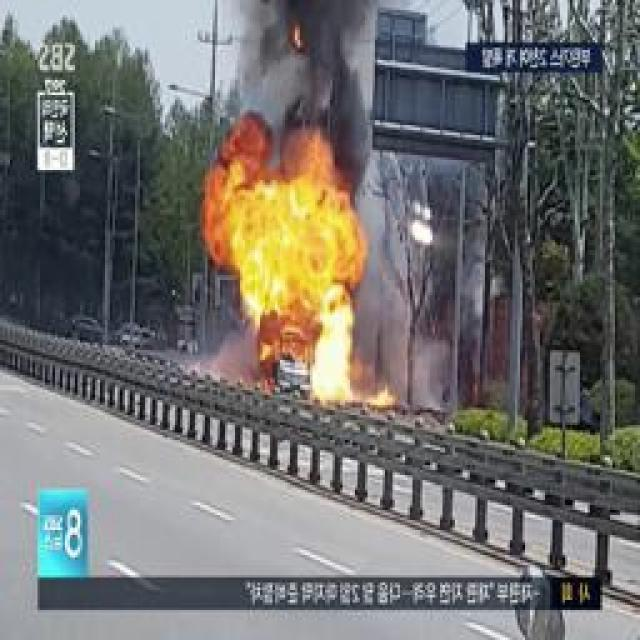Fire: (213, 180, 368, 394)
